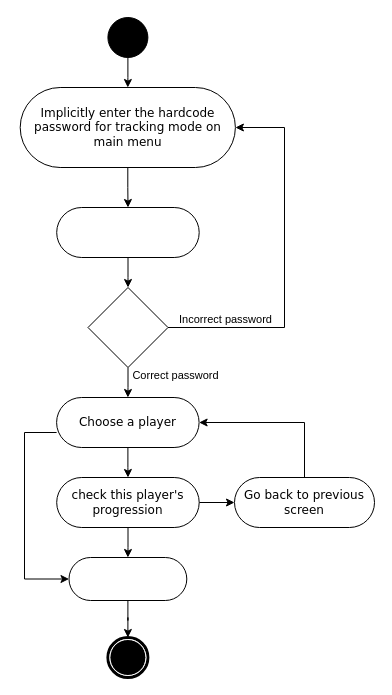
Some shapes in this 392 by 695 pixel diagram are drawn without their labels. The centre of each missing label's shape, as x and y in pixels:
go back to main menu: point (127, 578)
Validate password: point (127, 232)
